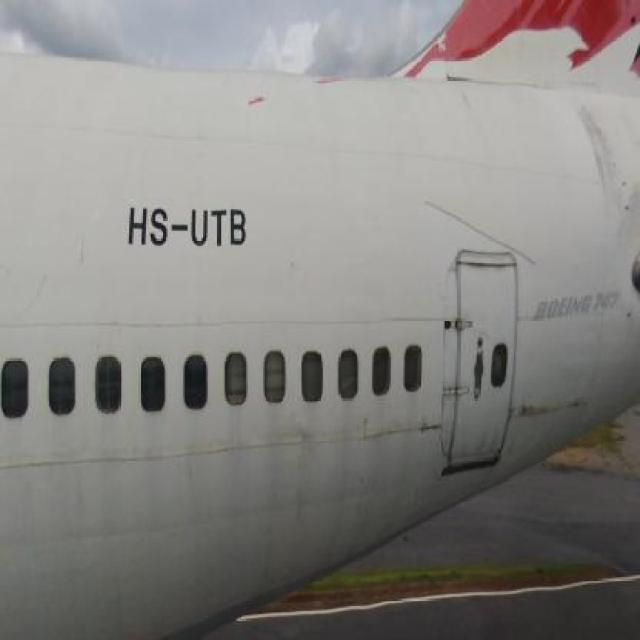Rust: (567, 92, 633, 223), (514, 384, 594, 438), (459, 253, 521, 292), (460, 437, 502, 468)
Scartch: (283, 417, 323, 525), (358, 412, 382, 458), (409, 414, 443, 443)
